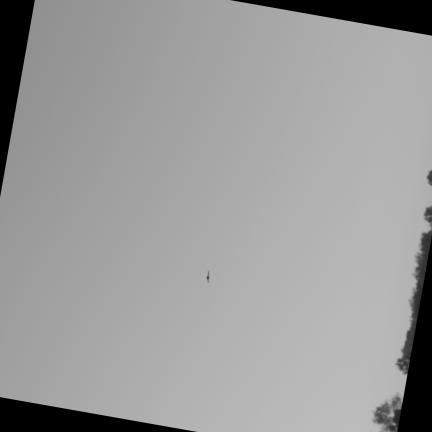Shahed: (207, 270, 209, 282)
